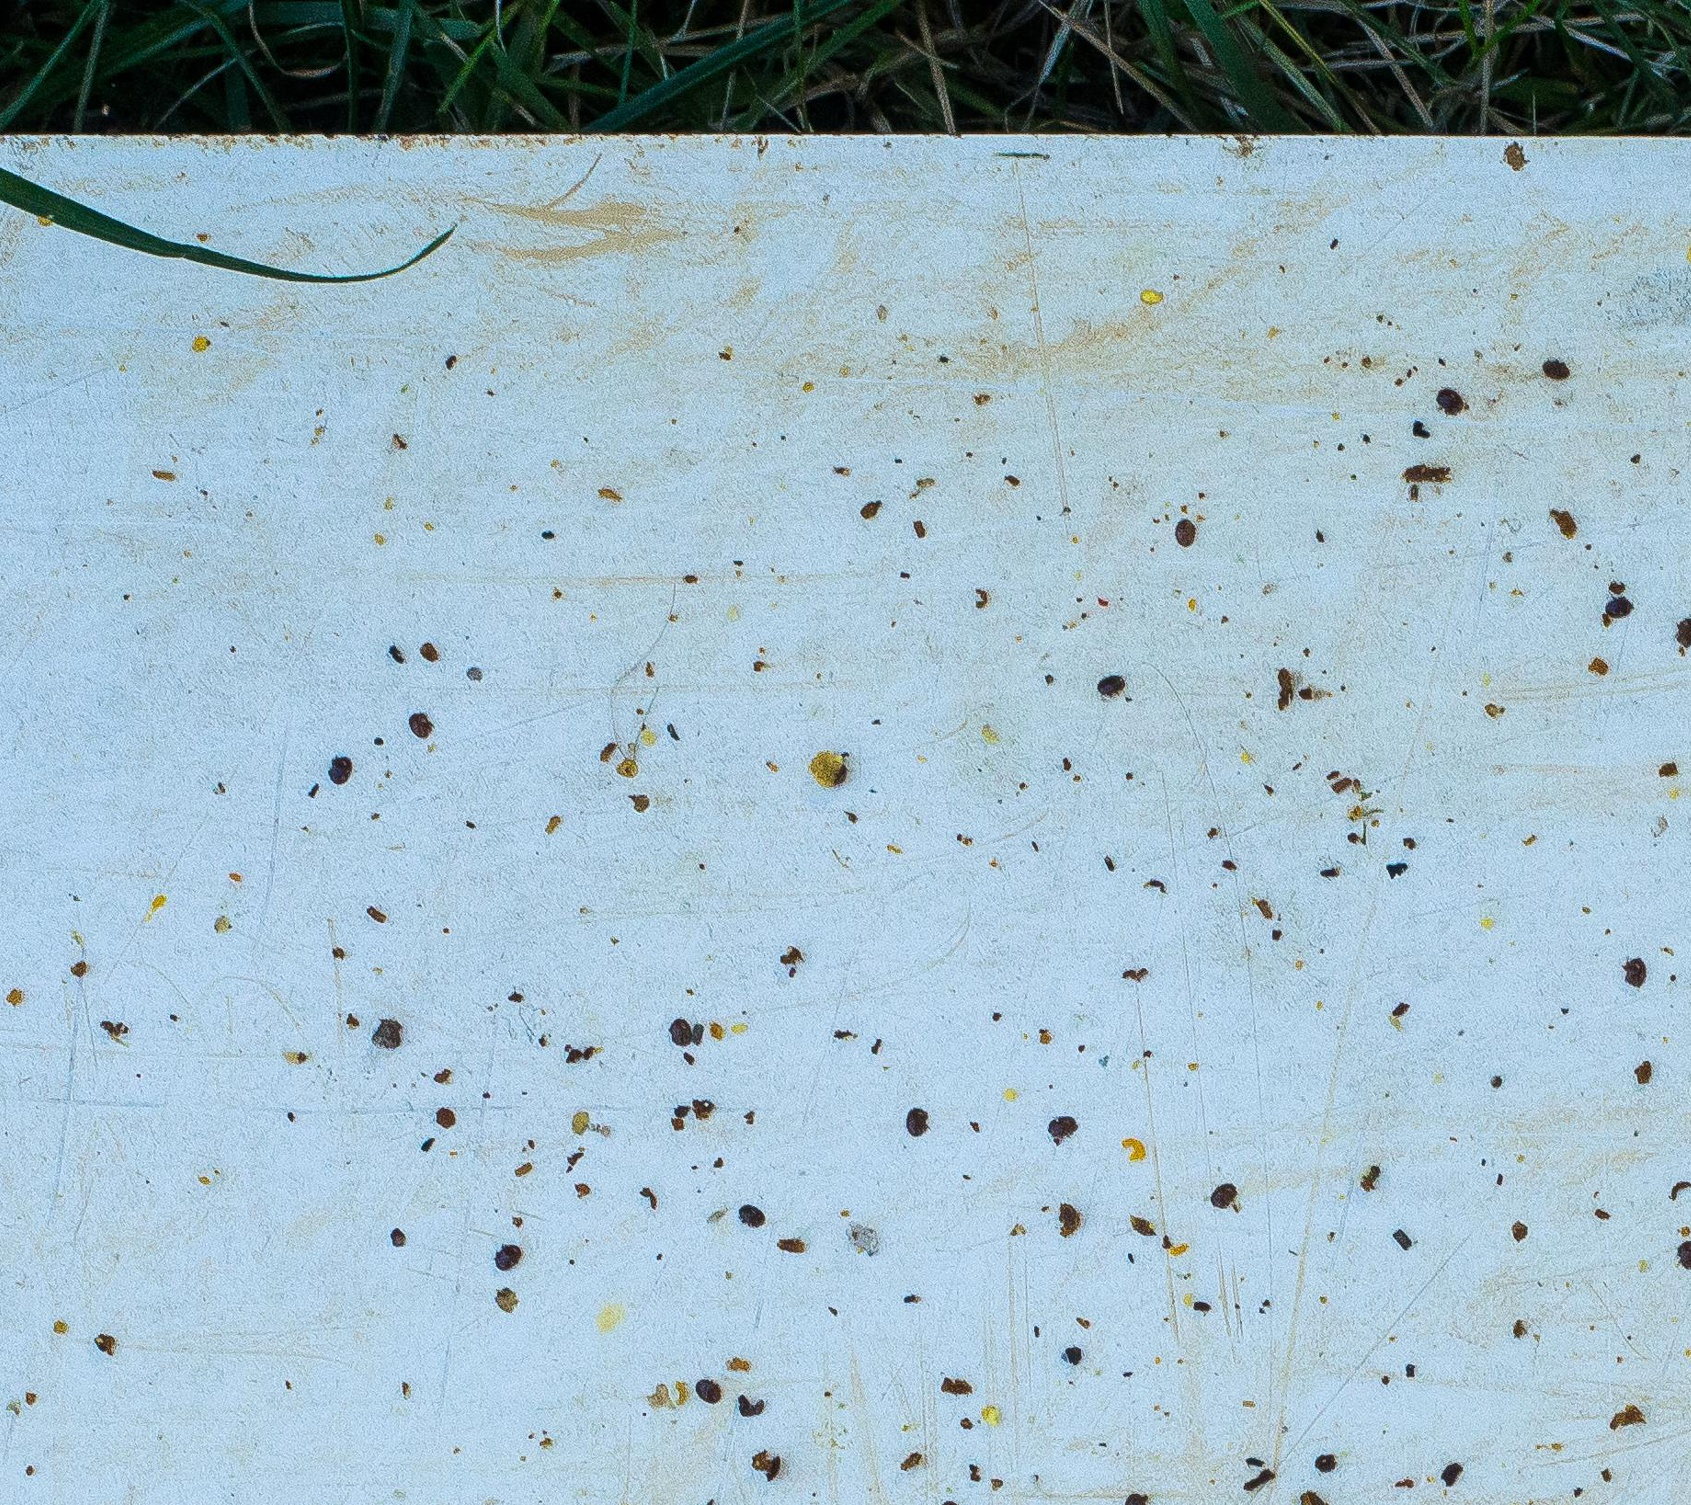Varroa: (1204, 1181, 1238, 1214), (323, 750, 354, 783), (1047, 1114, 1079, 1146), (690, 1371, 722, 1403), (738, 1201, 769, 1232), (491, 1245, 520, 1274), (1538, 354, 1568, 384), (904, 1106, 933, 1135), (1092, 670, 1122, 697), (408, 712, 436, 739), (1171, 520, 1199, 548), (1601, 597, 1629, 625), (665, 1017, 692, 1044), (1443, 392, 1467, 417)
